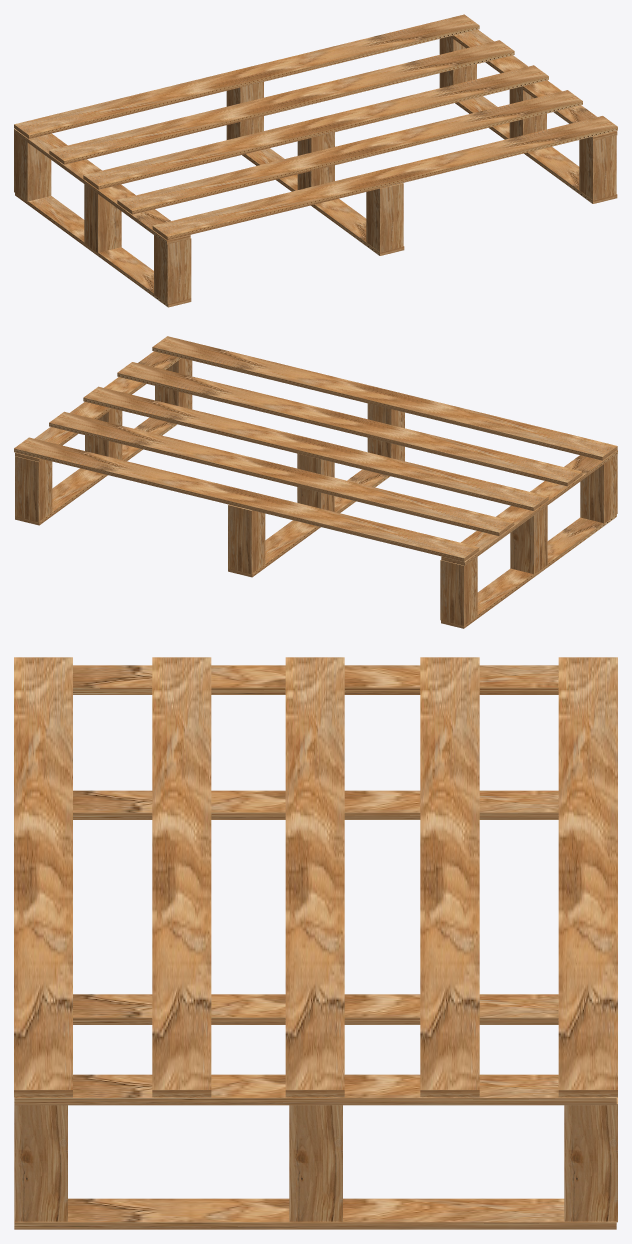
File: palletedemadera.fbx
3 renders of one model, top to bottom at view 1: azimuth 30°, elevation 25°; view 2: azimuth 150°, elevation 25°; view 3: azimuth 270°, elevation 25°, orthographic. The views are drawn at different scales.
Parts seen in each view (by area): view 1: Cube.001; view 2: Cube.001; view 3: Cube.001.
Part boxes in pixels (x1,y1,x2,y2): Cube.001: (14,14,617,307); Cube.001: (14,336,617,628); Cube.001: (14,657,617,1229).
Bounding box in the file's own units: 381 × 57.57 × 225.
1 material, 1 textured.
